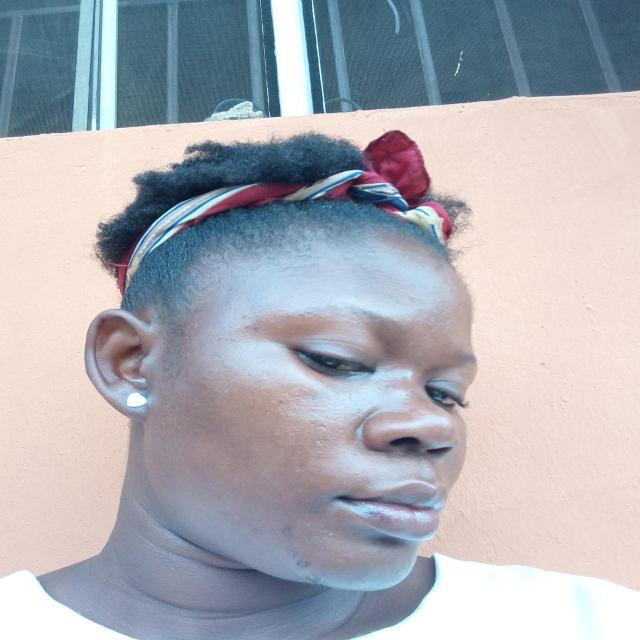Acne: (228, 308, 260, 345), (442, 275, 456, 294), (403, 389, 412, 398)
Englarged-Pores: (274, 382, 334, 446), (409, 301, 452, 336)
